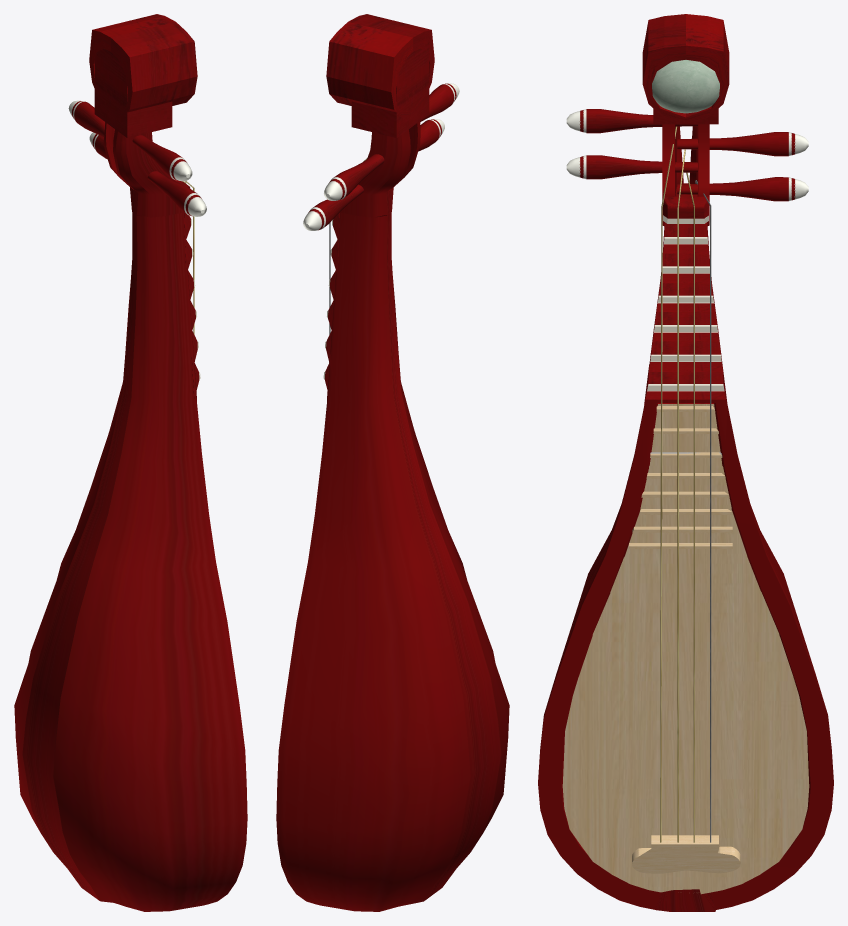
The model's file is pipa_normal.fbx.
3 renders of one model, left to right at view 1: azimuth 30°, elevation 25°; view 2: azimuth 150°, elevation 25°; view 3: azimuth 270°, elevation 25°, orthographic.
Visible parts, largest first — view 1: pCube1, pPipe1, pCube31, pCylinder4, pCylinder13, pCylinder14; view 2: pCube1, pPipe1, pCube31, pCylinder14, pCylinder15, pCylinder4, pCylinder13; view 3: pCube2, pCube1, pPipe1, polySurface1, pSphere1, pCylinder14, pCylinder15, pCylinder13, pCylinder4, pCube29, pCube32, pCylinder5 (+9 smaller).
Part boxes in pixels (x1,y1,x2,y2): pCube1: (14, 122, 247, 911); pPipe1: (89, 14, 197, 117); pCube31: (94, 47, 172, 137); pCylinder4: (132, 135, 192, 181); pCylinder13: (147, 171, 206, 216); pCylinder14: (68, 100, 104, 137); pCube1: (276, 121, 509, 911); pPipe1: (326, 14, 434, 118); pCube31: (351, 34, 429, 137); pCylinder14: (324, 154, 384, 200); pCylinder15: (303, 184, 363, 230); pCylinder4: (420, 83, 459, 121); pCylinder13: (418, 119, 444, 151); pCube2: (562, 404, 809, 894); pCube1: (538, 124, 833, 911); pPipe1: (642, 14, 729, 123); polySurface1: (632, 835, 740, 873); pSphere1: (652, 60, 719, 113); pCylinder14: (677, 132, 808, 156); pCylinder15: (677, 177, 808, 201); pCylinder13: (566, 155, 697, 179); pCylinder4: (566, 109, 697, 133); pCube29: (644, 364, 725, 404); pCube32: (648, 340, 723, 375); pCylinder5: (660, 126, 677, 842).
Size of the model in its own units: 2.18 by 12.23 by 3.78.
